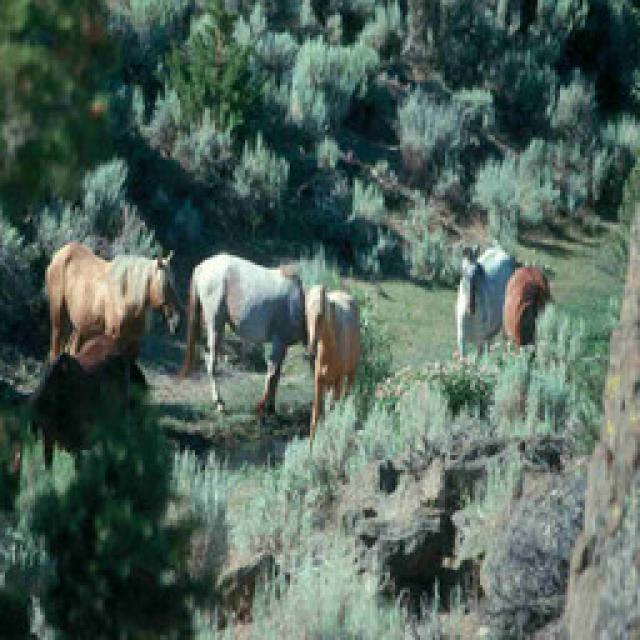not_pig: (178, 250, 360, 422), (42, 240, 180, 362), (28, 332, 148, 472), (452, 242, 550, 358), (302, 282, 360, 438), (453, 242, 485, 358)
